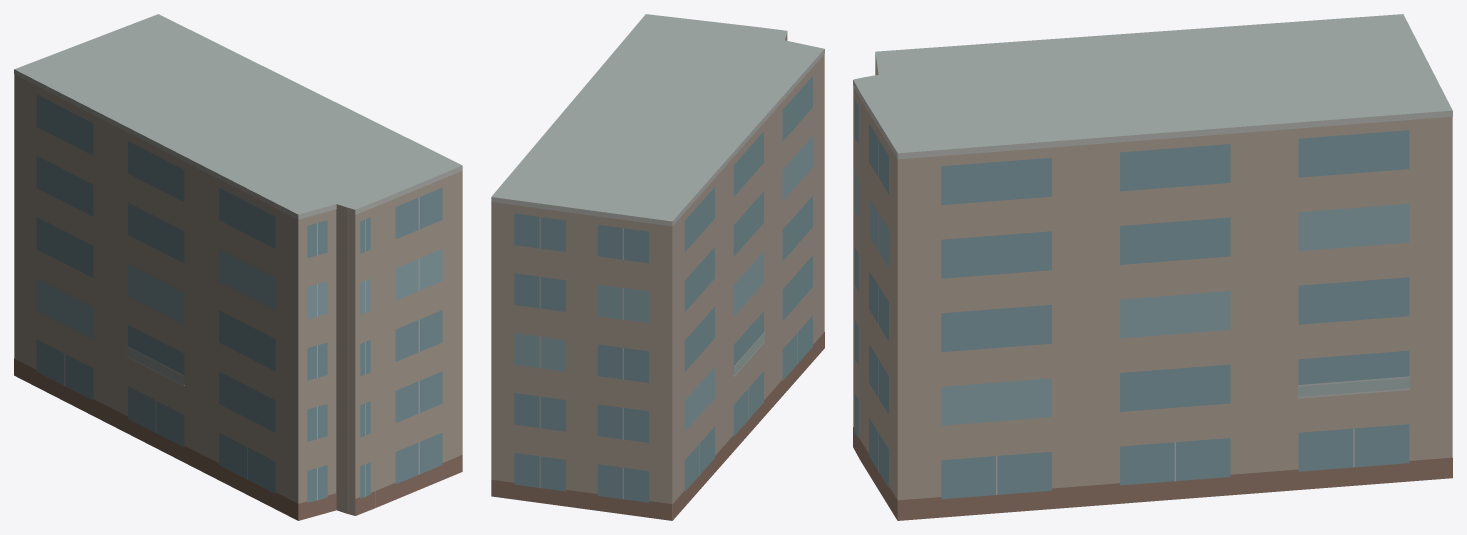
Rendered from survey-upis-32895138.glb.
3 views of the same model, side by side, from view 1: azimuth 30°, elevation 25°; view 2: azimuth 150°, elevation 25°; view 3: azimuth 270°, elevation 25° (orthographic). The views are drawn at different scales.
Visible parts, largest first — view 1: survey-upis-32895138.tmp; view 2: survey-upis-32895138.tmp; view 3: survey-upis-32895138.tmp.
Boxes of the visible parts, x1=… form: survey-upis-32895138.tmp: x1=14, y1=14, x2=462, y2=520; survey-upis-32895138.tmp: x1=491, y1=14, x2=824, y2=520; survey-upis-32895138.tmp: x1=853, y1=14, x2=1452, y2=520.
Bounding box in the file's own units: 11.96 × 14.7 × 21.75.
